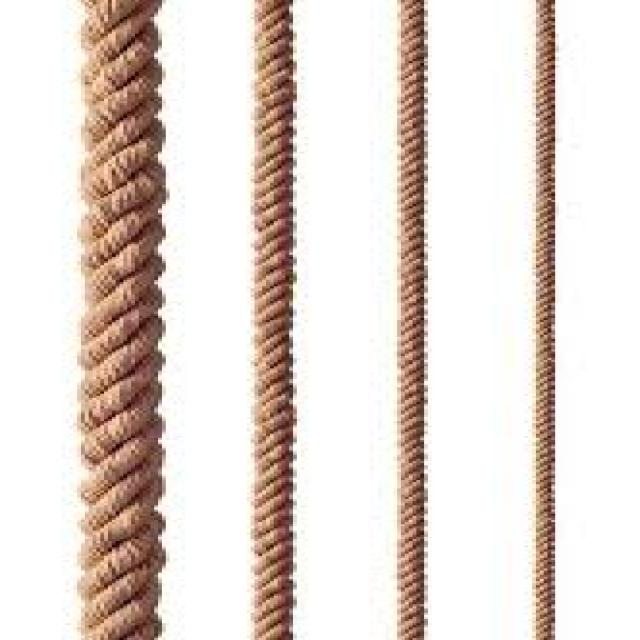Rope: (60, 0, 186, 640)
